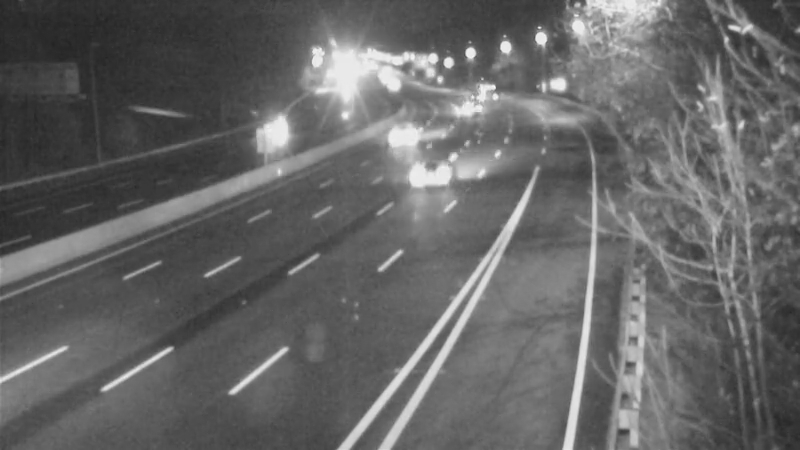vehicle: (388, 135, 468, 215), (464, 68, 514, 118), (440, 82, 490, 132), (376, 110, 426, 160), (259, 110, 309, 160)
